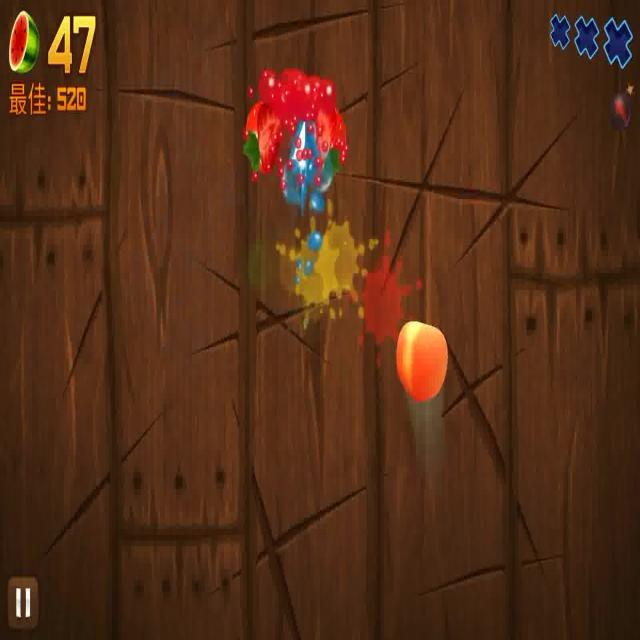fruit: (396, 316, 452, 404), (312, 95, 349, 170), (246, 100, 278, 174)
